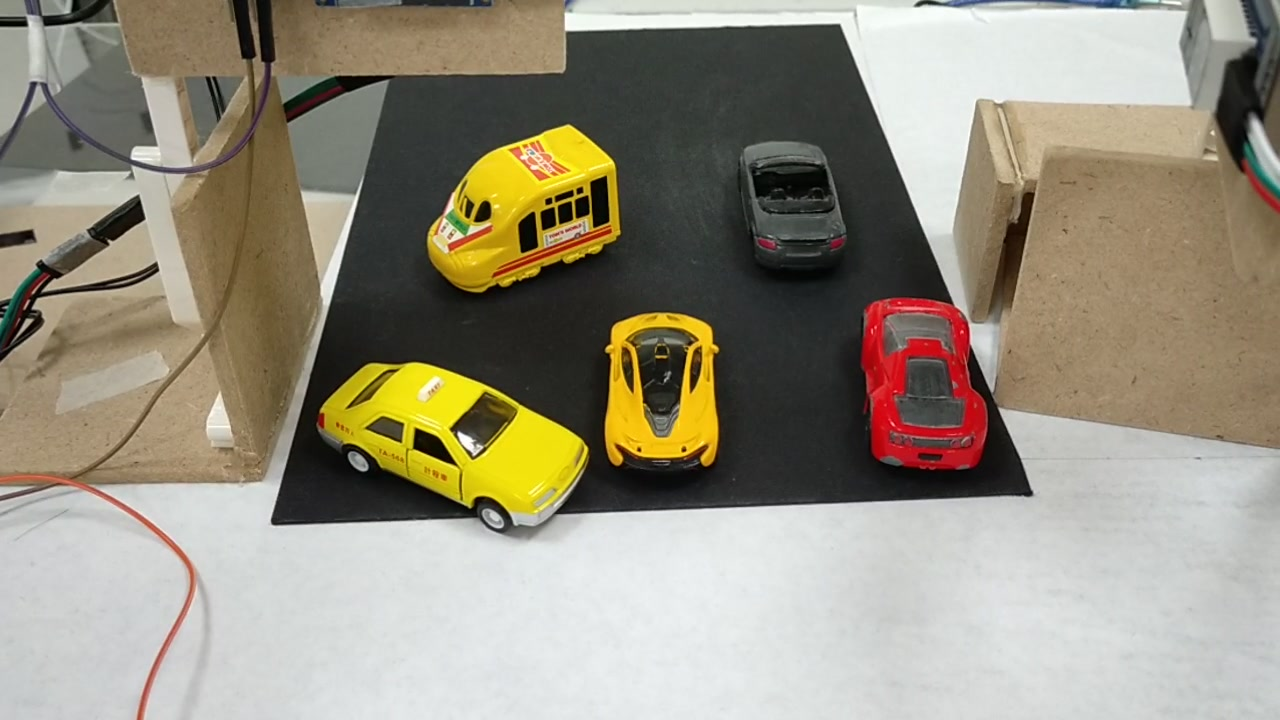car: (321, 353, 591, 539), (863, 296, 988, 468), (606, 314, 716, 471), (736, 142, 846, 268)
